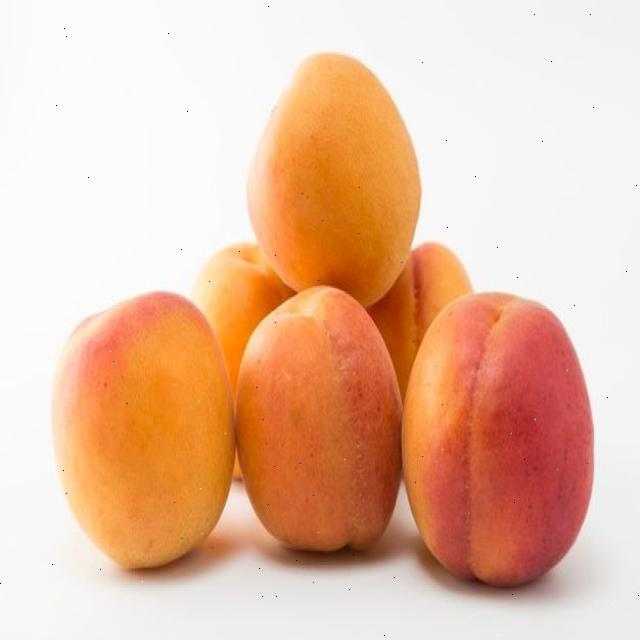kayisi: (401, 292, 596, 591), (49, 292, 237, 573), (233, 286, 404, 554), (245, 51, 422, 305), (369, 242, 474, 397), (188, 243, 296, 387)
